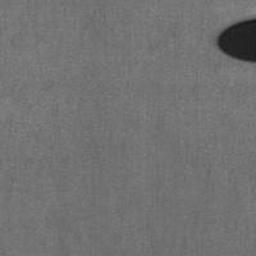Punching: (218, 19, 256, 61)
